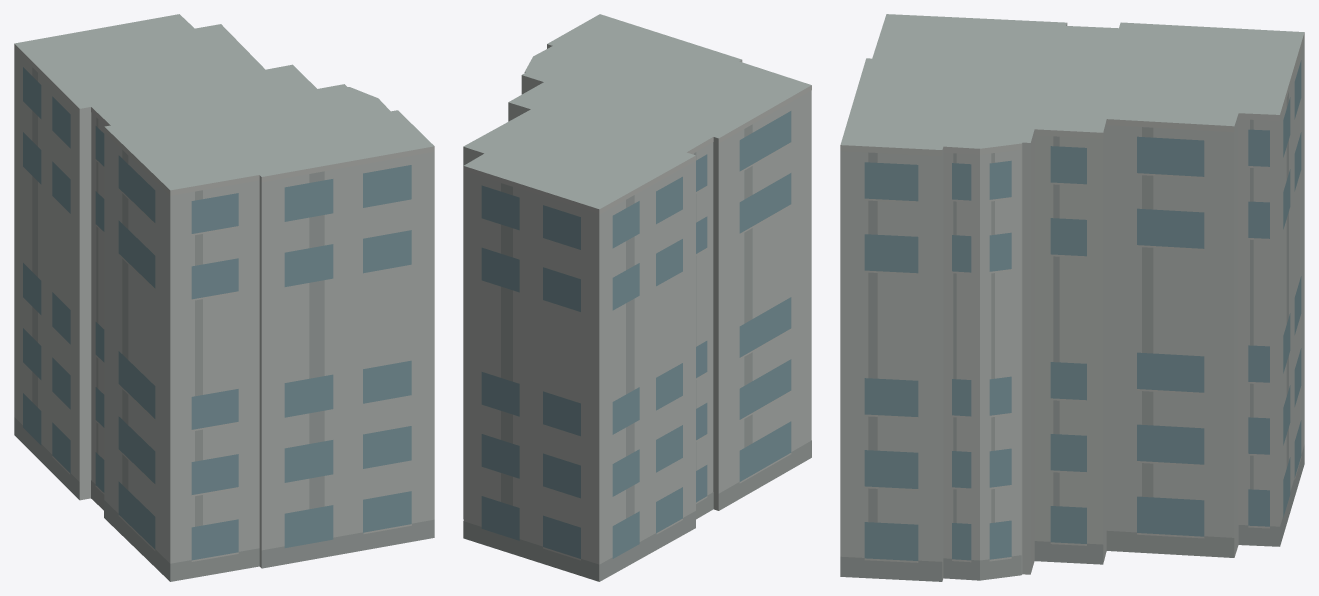
Rendered from survey-upis-32880325.glb.
3 views of the same model, side by side, from view 1: azimuth 30°, elevation 25°; view 2: azimuth 150°, elevation 25°; view 3: azimuth 270°, elevation 25° (orthographic). The views are drawn at different scales.
Parts seen in each view (by area): view 1: survey-upis-32880325.tmp; view 2: survey-upis-32880325.tmp; view 3: survey-upis-32880325.tmp.
Part boxes in pixels (<box>): survey-upis-32880325.tmp: <box>14,14,434,581</box>; survey-upis-32880325.tmp: <box>463,14,811,581</box>; survey-upis-32880325.tmp: <box>840,14,1304,581</box>.
Bounding box in the file's own units: 11.81 × 17.45 × 17.01.
